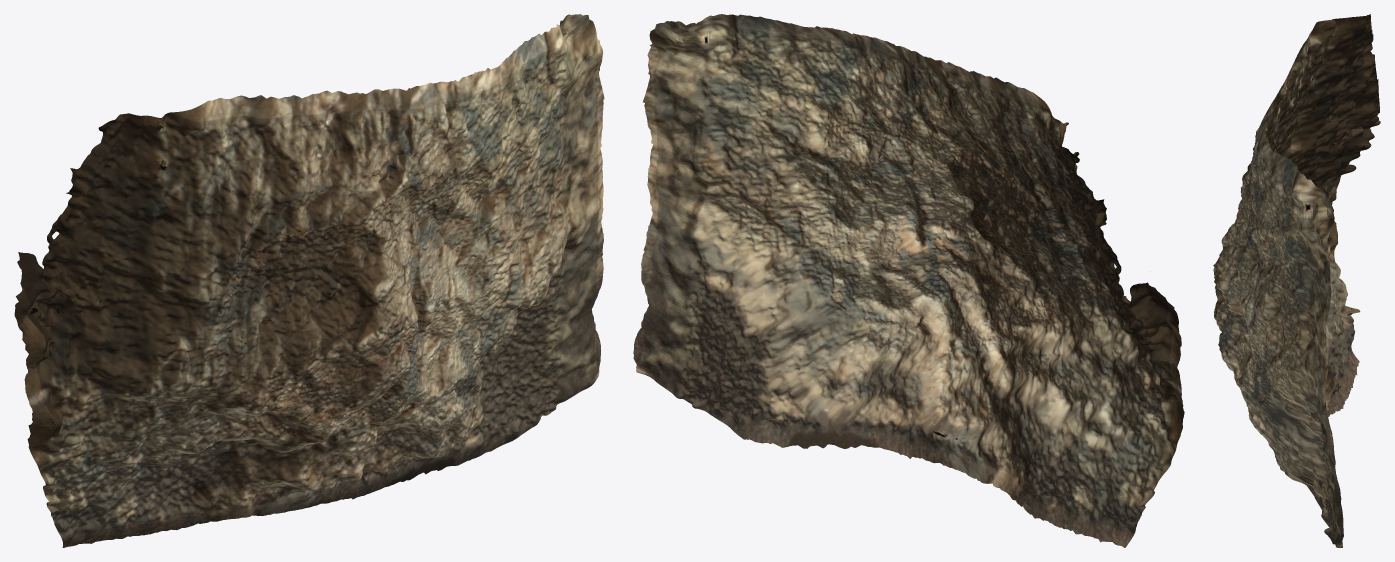
The model's file is Askival_v2.obj.
3 views of the same model, side by side, from view 1: azimuth 30°, elevation 25°; view 2: azimuth 150°, elevation 25°; view 3: azimuth 270°, elevation 25° (orthographic). The views are drawn at different scales.
Parts seen in each view (by area): view 1: Askival_v2; view 2: Askival_v2; view 3: Askival_v2.
Part boxes in pixels (x1,y1,x2,y2): Askival_v2: [14, 14, 604, 547]; Askival_v2: [633, 14, 1184, 547]; Askival_v2: [1213, 14, 1380, 547].
Size of the model in its own units: 15.08 by 10.85 by 4.17.
